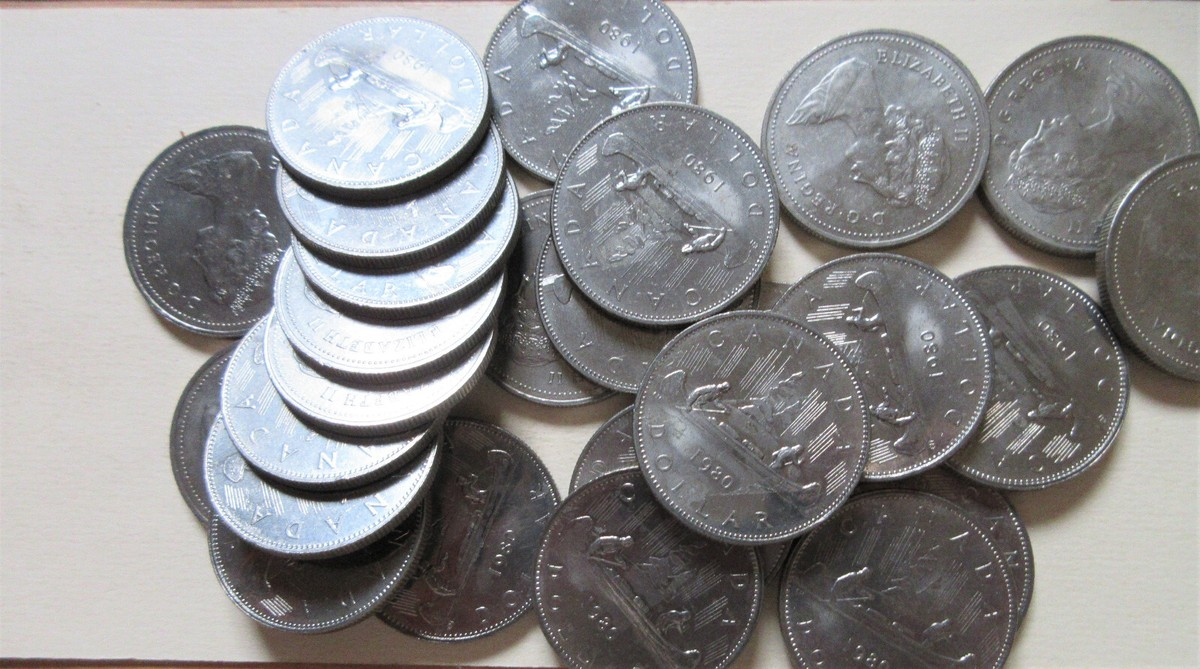coin: (634, 311, 867, 544), (552, 103, 778, 326), (775, 253, 992, 479), (762, 31, 989, 247), (981, 36, 1199, 255), (536, 470, 762, 668), (780, 491, 1016, 668), (947, 266, 1128, 489), (378, 418, 558, 640), (267, 17, 488, 197), (484, 0, 696, 180), (221, 322, 439, 489), (124, 126, 289, 336), (205, 417, 441, 558), (295, 176, 517, 317), (278, 131, 503, 265), (274, 251, 504, 382), (263, 316, 494, 436), (209, 505, 427, 632), (855, 467, 1033, 621), (487, 190, 611, 405), (1096, 154, 1199, 380), (169, 346, 232, 523), (569, 405, 637, 491)
